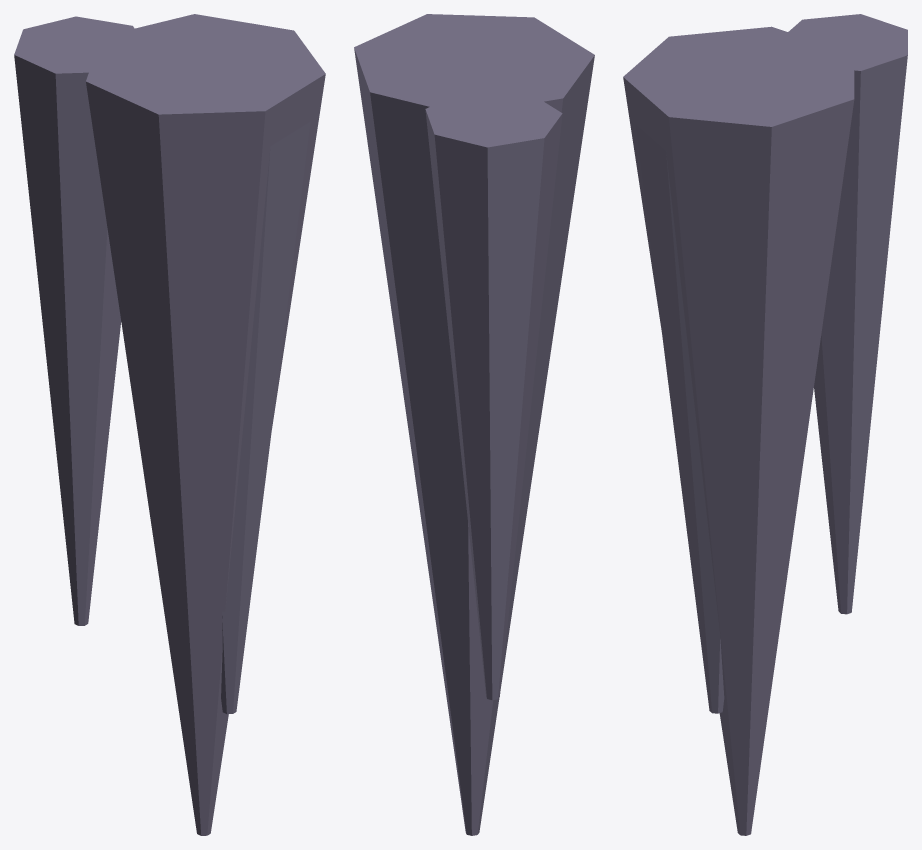
The model's file is kit__stalactite.fbx.
The picture shows the model from 3 angles, left to right: view 1: azimuth 30°, elevation 25°; view 2: azimuth 150°, elevation 25°; view 3: azimuth 270°, elevation 25°; orthographic projection.
Parts seen in each view (by area): view 1: kit__stalactite; view 2: kit__stalactite; view 3: kit__stalactite.
Boxes of the visible parts, left/top/right/bottom form: kit__stalactite: left=14, top=14, right=325, bottom=835; kit__stalactite: left=354, top=14, right=594, bottom=835; kit__stalactite: left=623, top=14, right=907, bottom=835.
Size of the model in its own units: 0.7692 by 2.4 by 0.8192.
